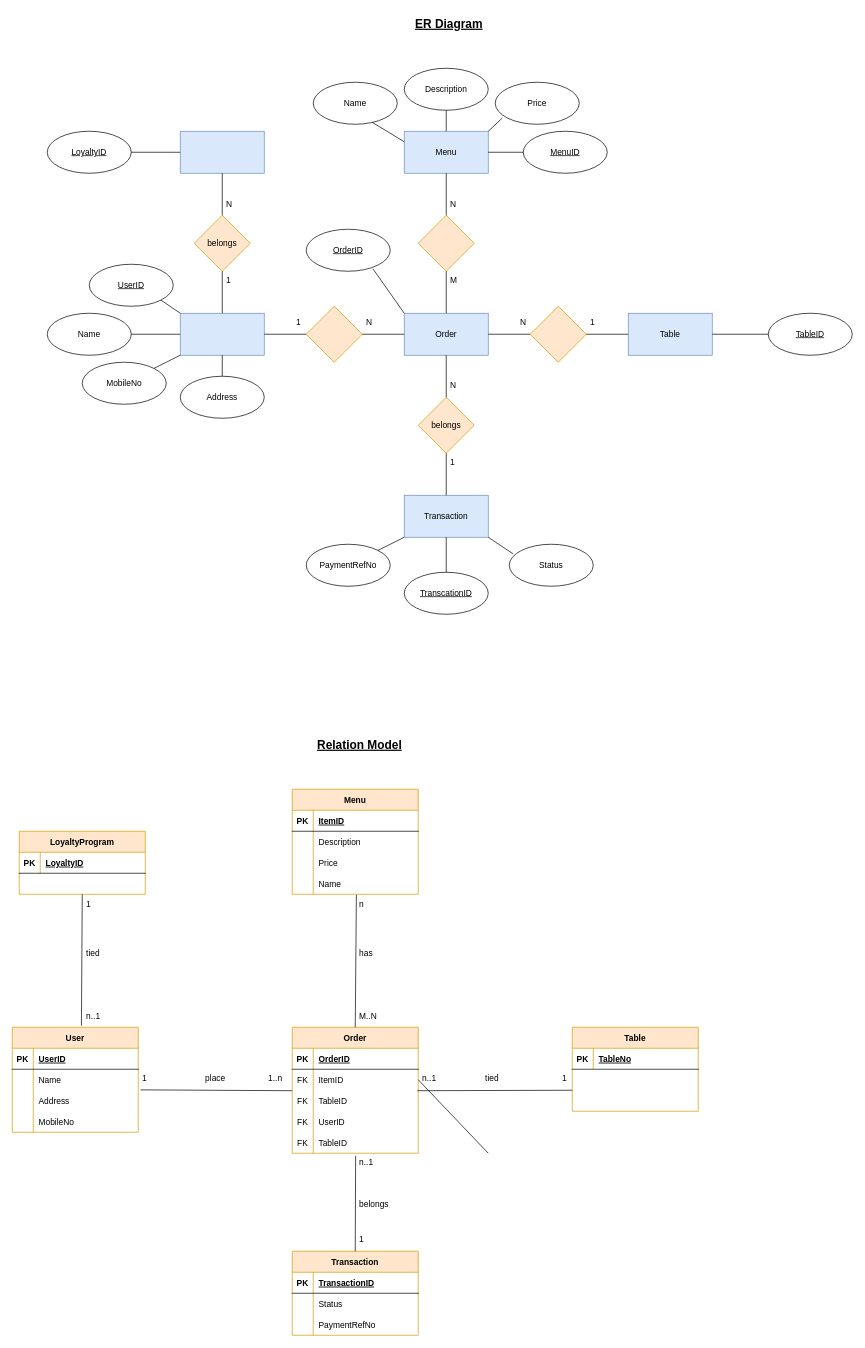
Image size: 865x1348. Some labels were removed from this diagram. Each missing label, with the centre of its shape:
"has" belongs at [446,243].
"Loyalty" belongs at [222,152].
"place" belongs at [334,334].
"tied" belongs at [558,334].
"Users" belongs at [222,334].
